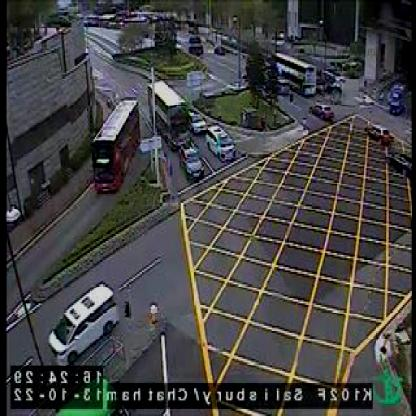Bus: (92, 97, 140, 195), (150, 80, 190, 149), (276, 51, 317, 100)
Car: (206, 126, 238, 162), (178, 142, 204, 185), (384, 148, 412, 178), (364, 123, 394, 144), (310, 98, 336, 122), (187, 111, 208, 134)
Truck: (48, 280, 121, 364)
